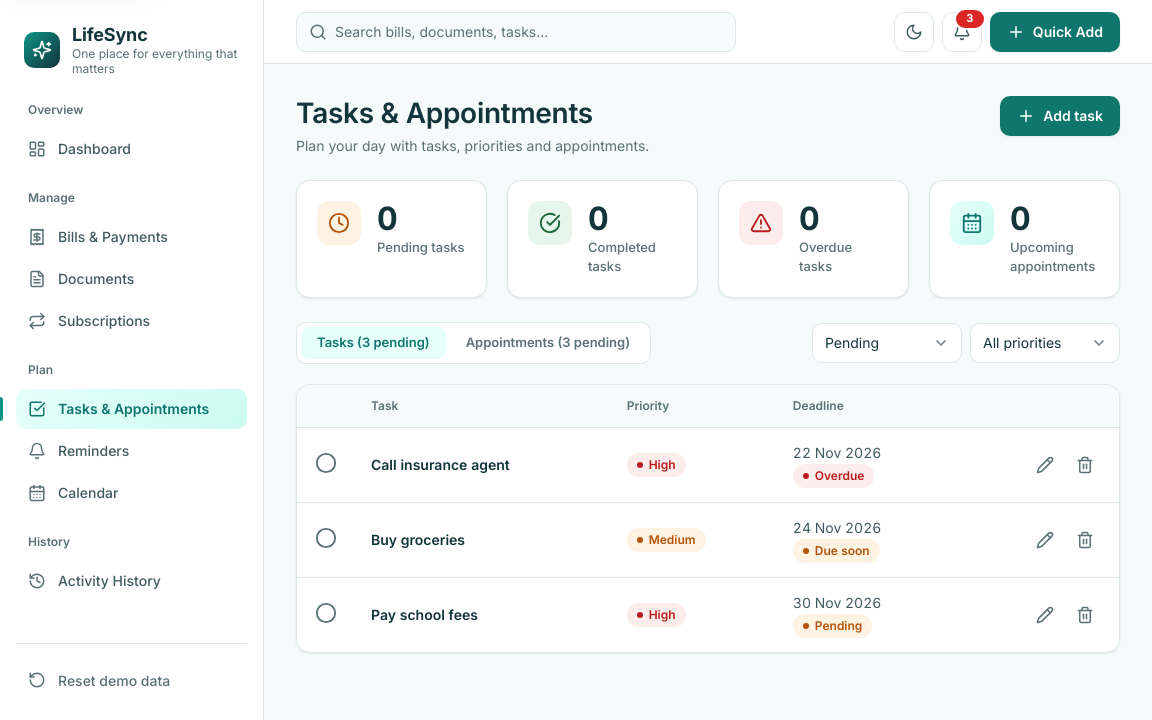
Test: in the app › shows the notice when a change cannot be saved, and the change still appears
Check: the heading "Tasks & Appointments" is shown, box [296,96,593,130]
Click the button "Quick Add": (1055, 32) [990,12,1120,52]
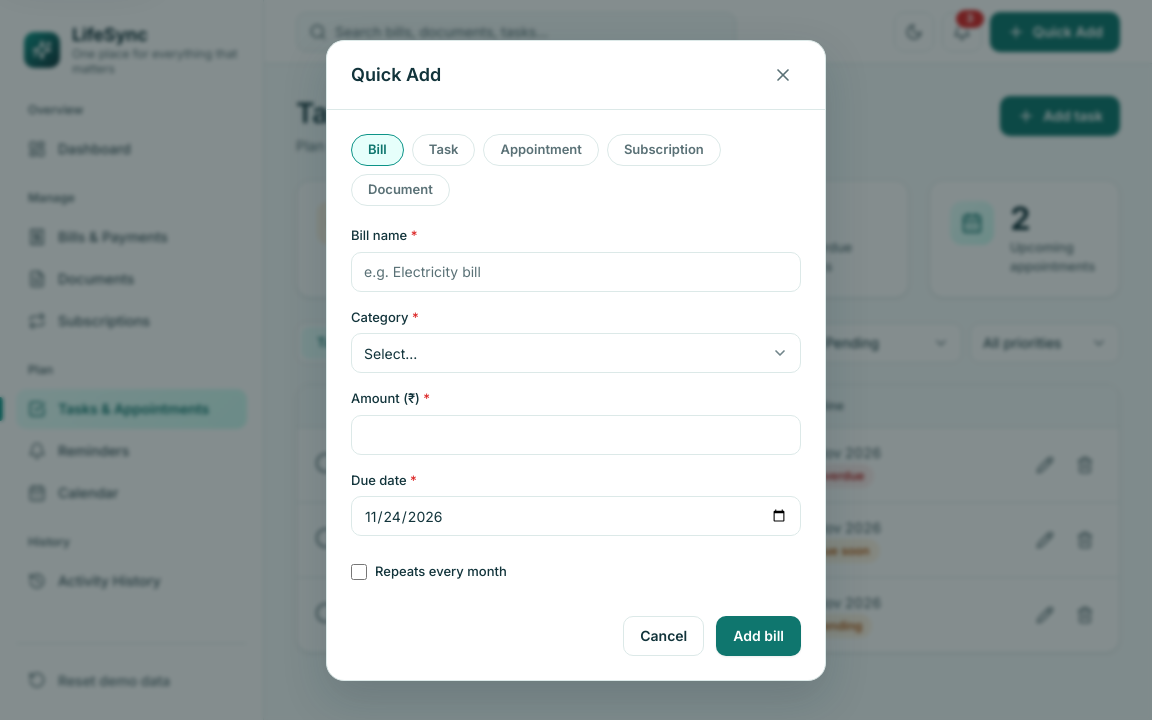
Click the button "Task": (444, 150) [412,134,475,166]
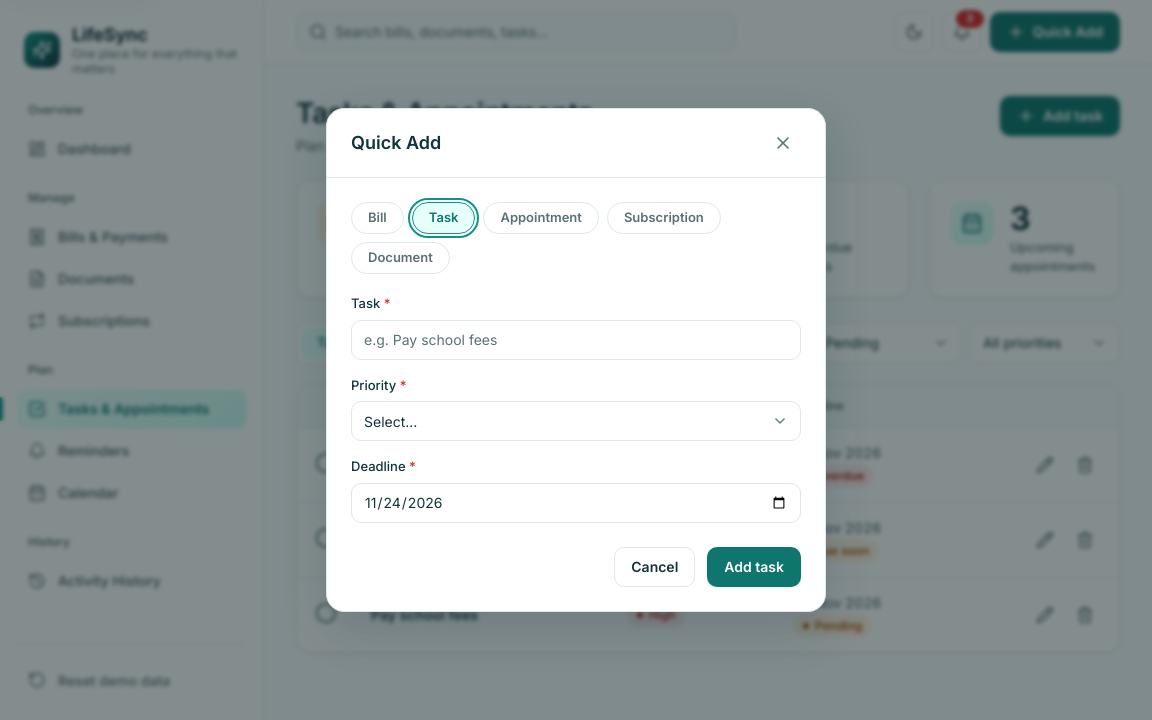
In the field labelled "Task *": (576, 340) [351,320,801,360], type "Call the bank"
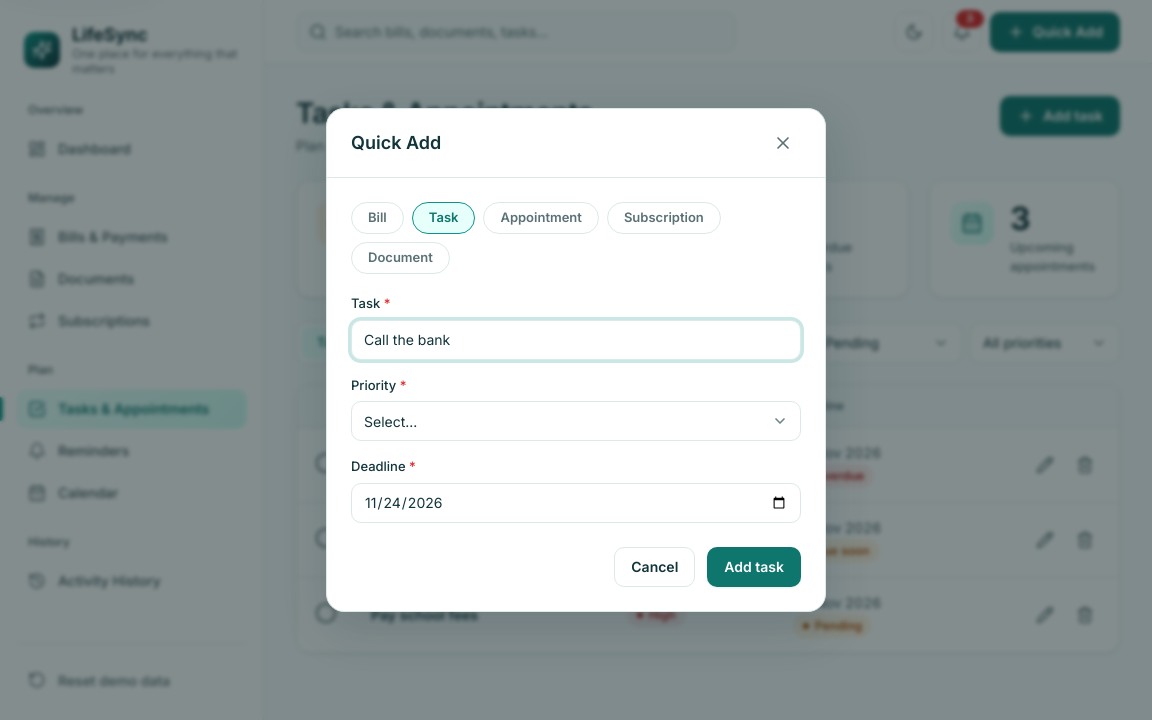
Select "Low" in the dropdown labelled "Priority *": (576, 421) [351,401,801,441]
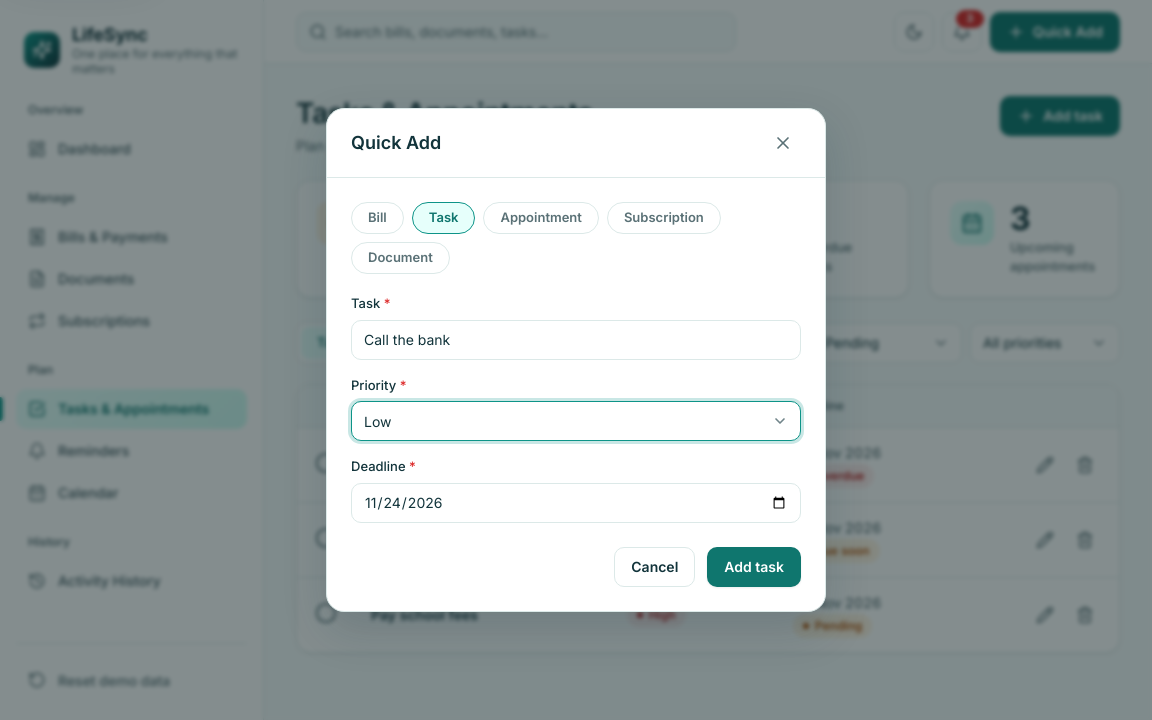
Click the button "Add task": (754, 567) [707,547,801,587]
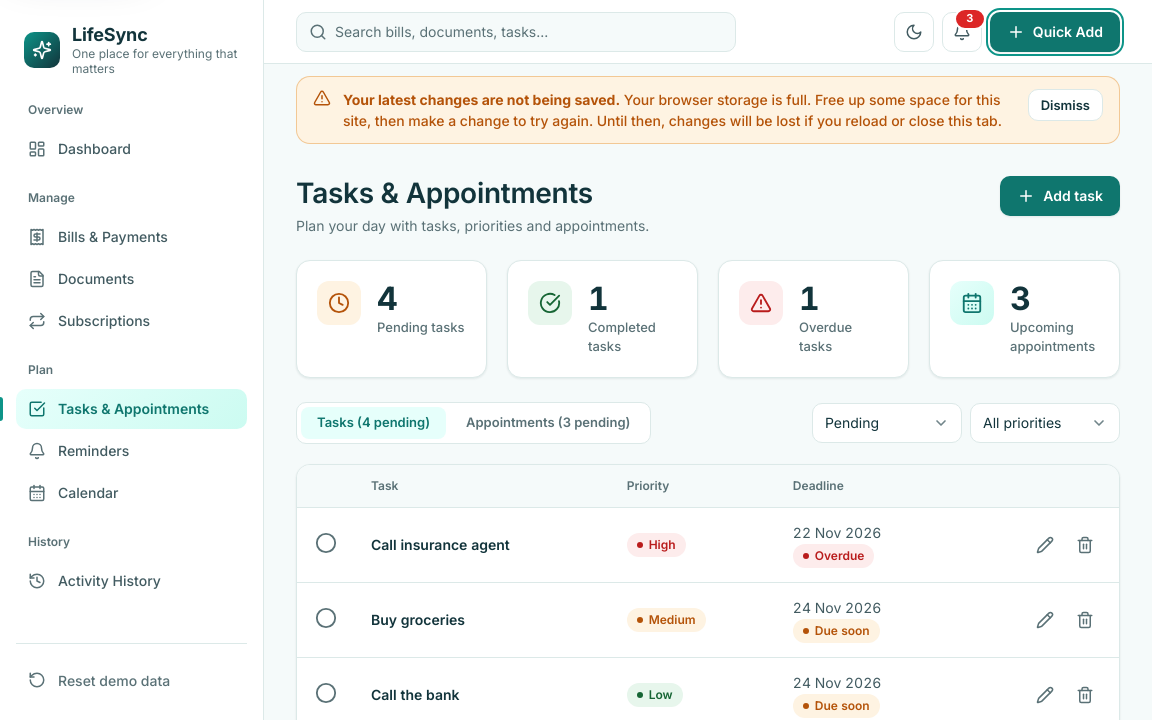
Check: the message shows "not being saved", box [343,91,620,108]
Check: the text "Call the bank" is shown, box [371,686,460,703]
